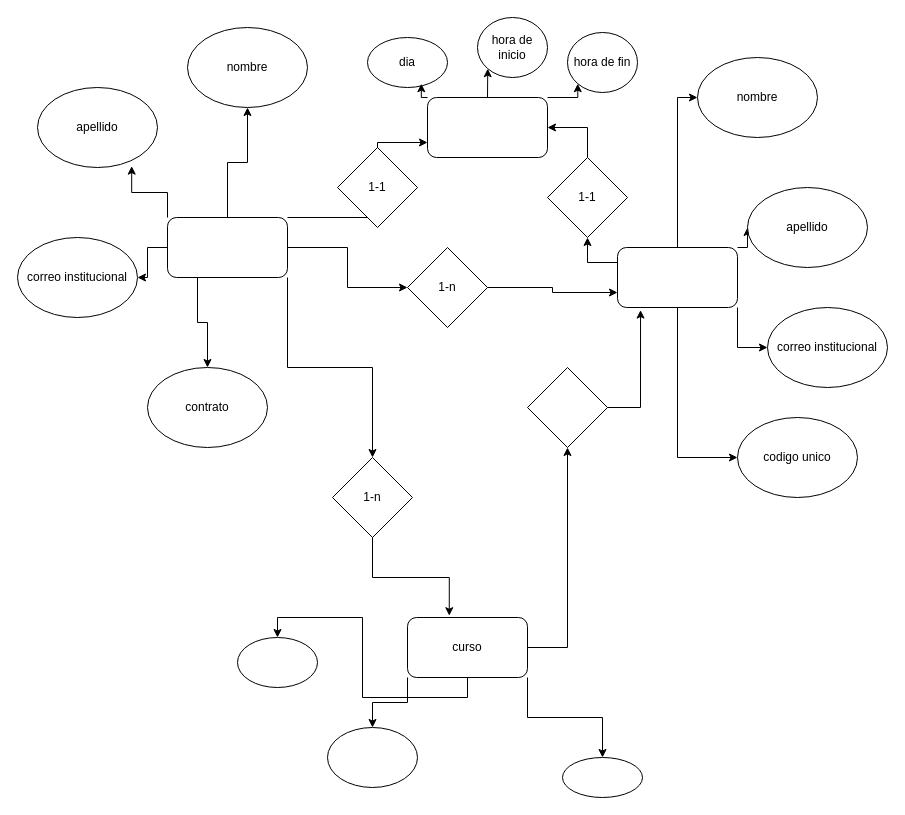
Some shapes in this 905 by 815 pixel diagram are drawn without their labels. Each missing label, with the centre of its shape:
"aula" goes at pixel 602 777.
"codigo" goes at pixel 372 757.
"creditos" goes at pixel 277 662.
"Estudiante" goes at pixel 677 277.
"horario" goes at pixel 487 127.
"n-m" goes at pixel 567 407.
"Profesor" goes at pixel 227 247.
